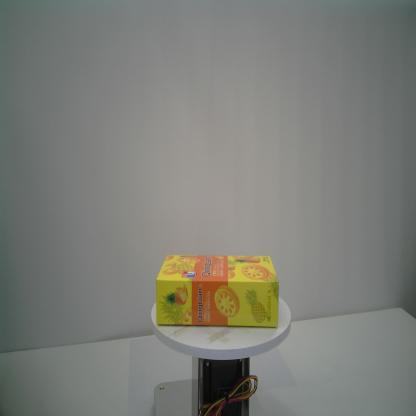Dessert: (154, 252, 280, 331)
